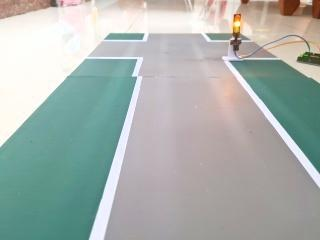yellow: (226, 8, 247, 43)
